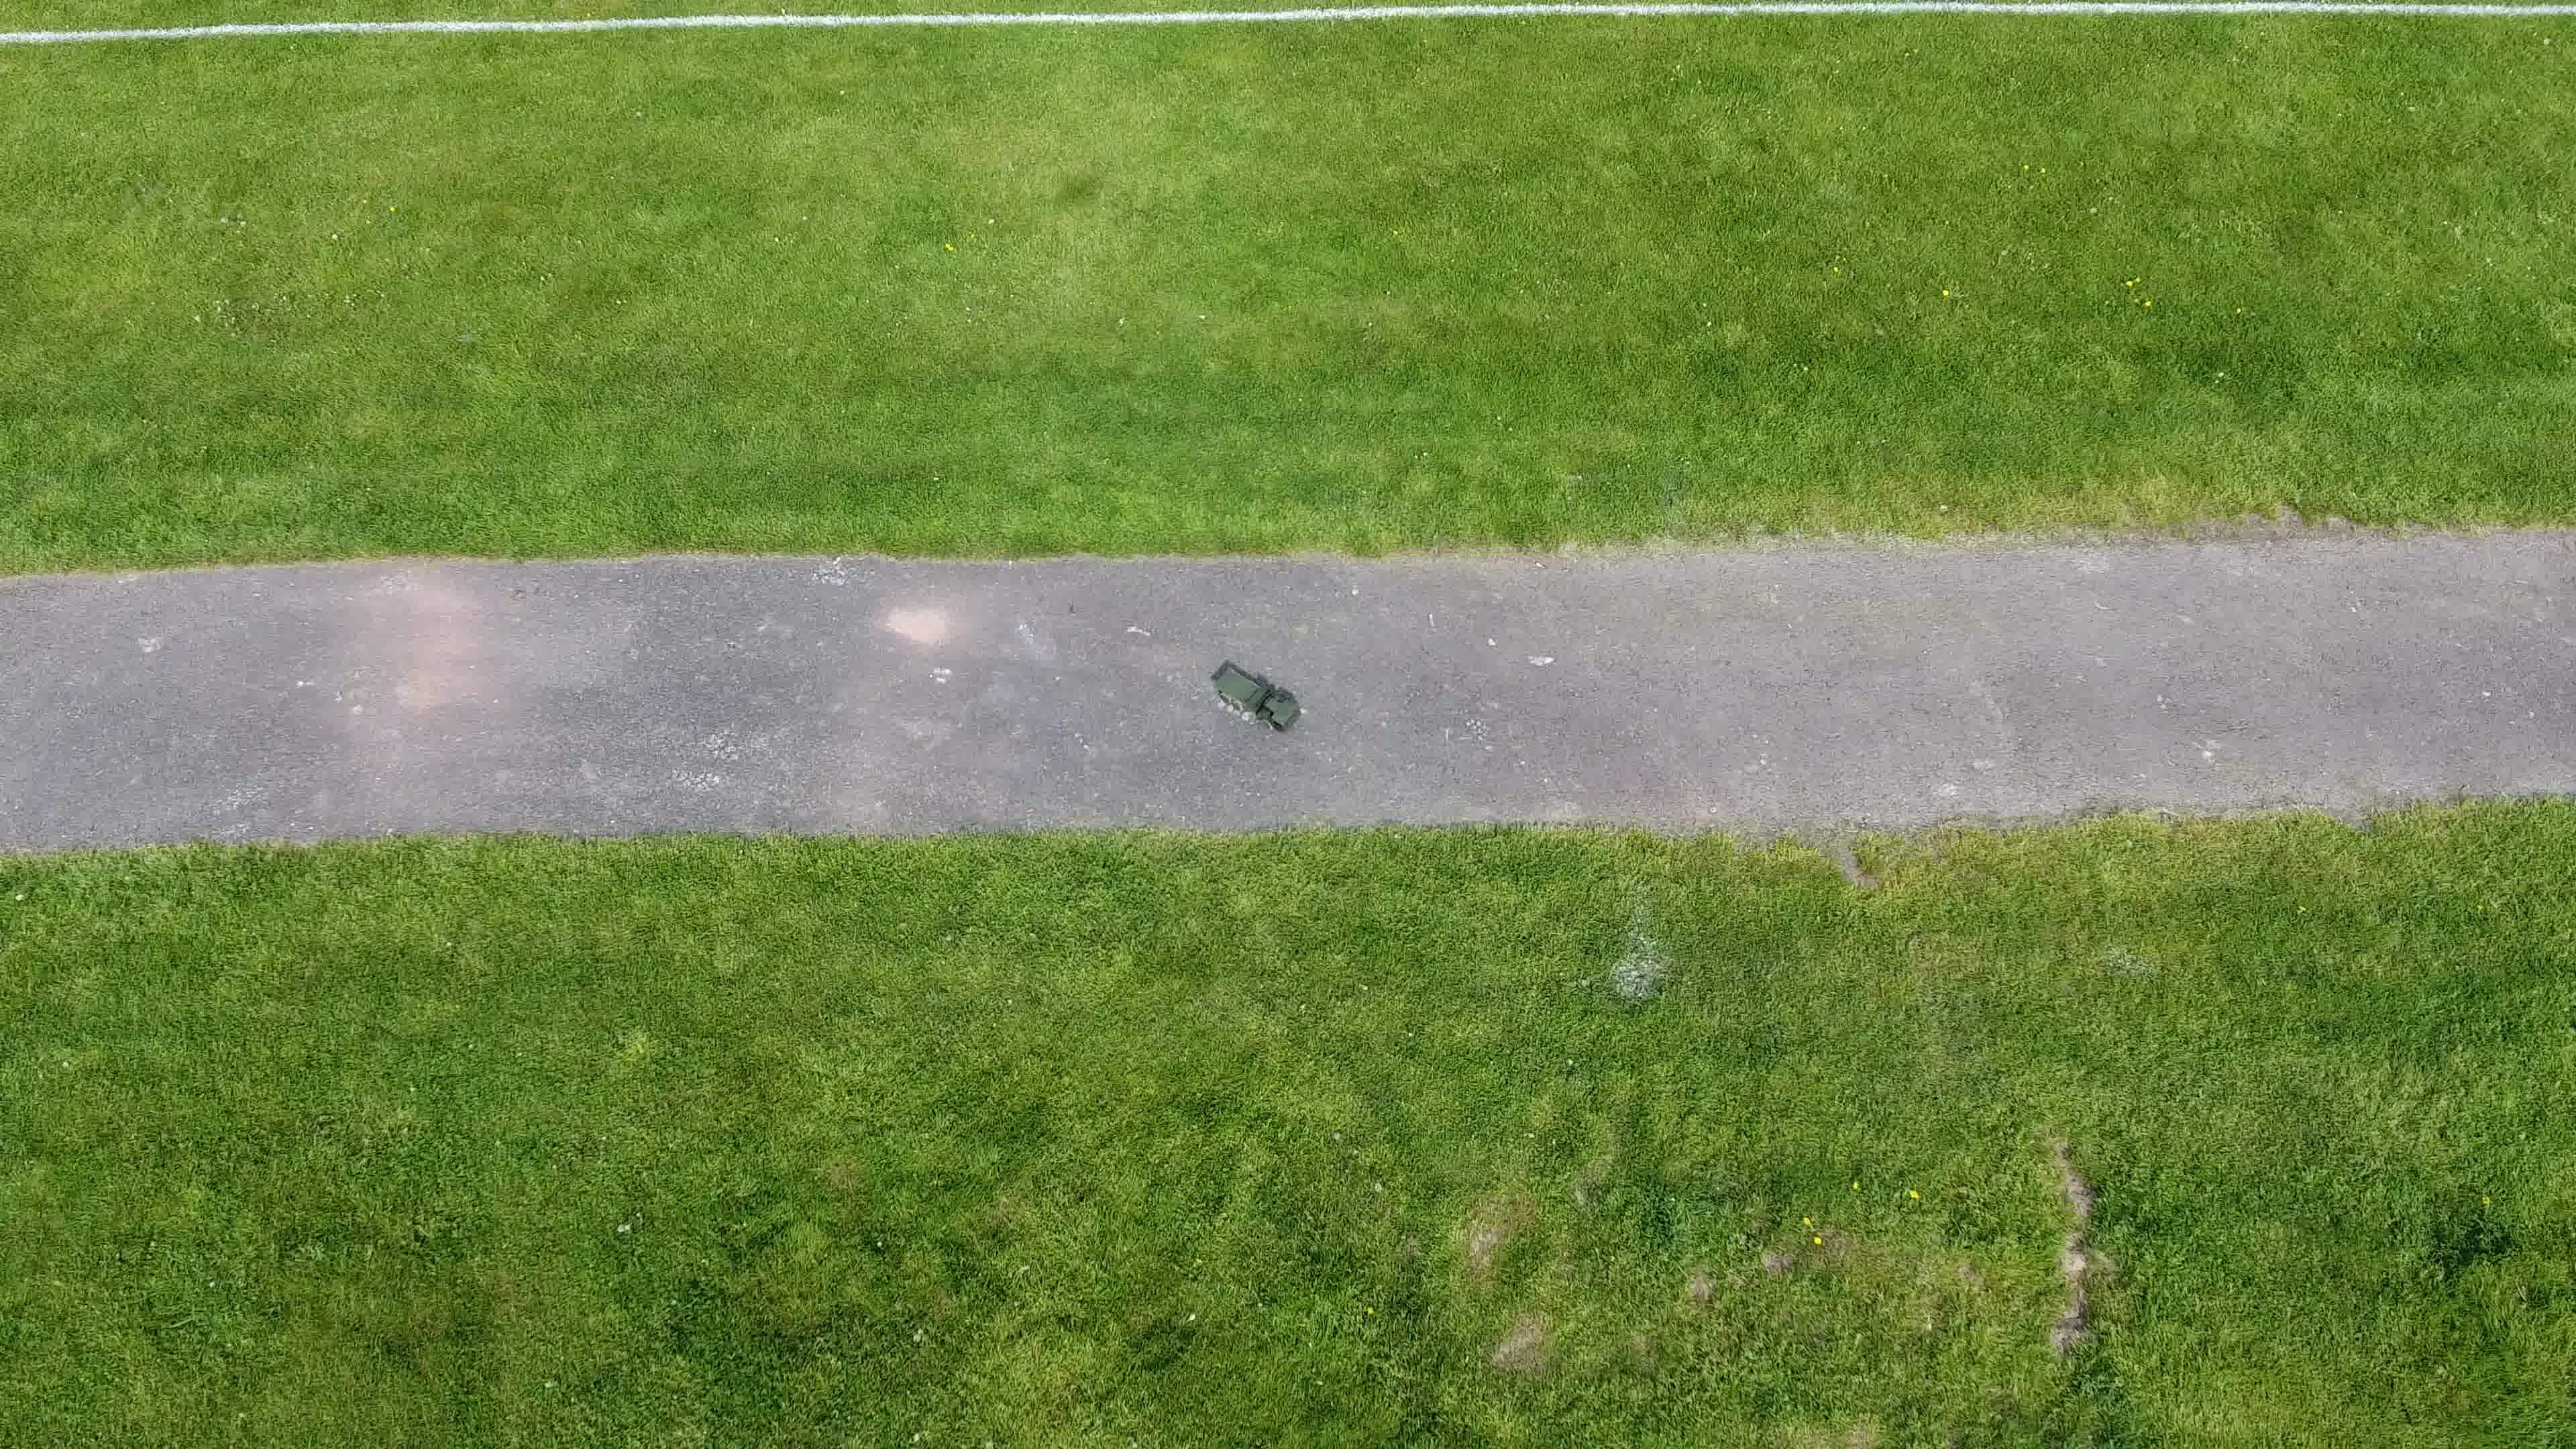transporter9: (1208, 660, 1302, 736)
